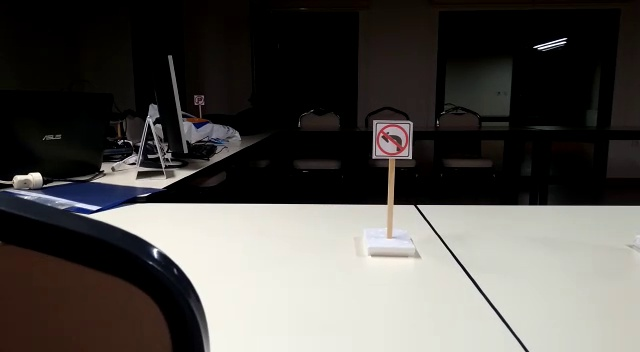sola_donulmez: (374, 118, 413, 162)
